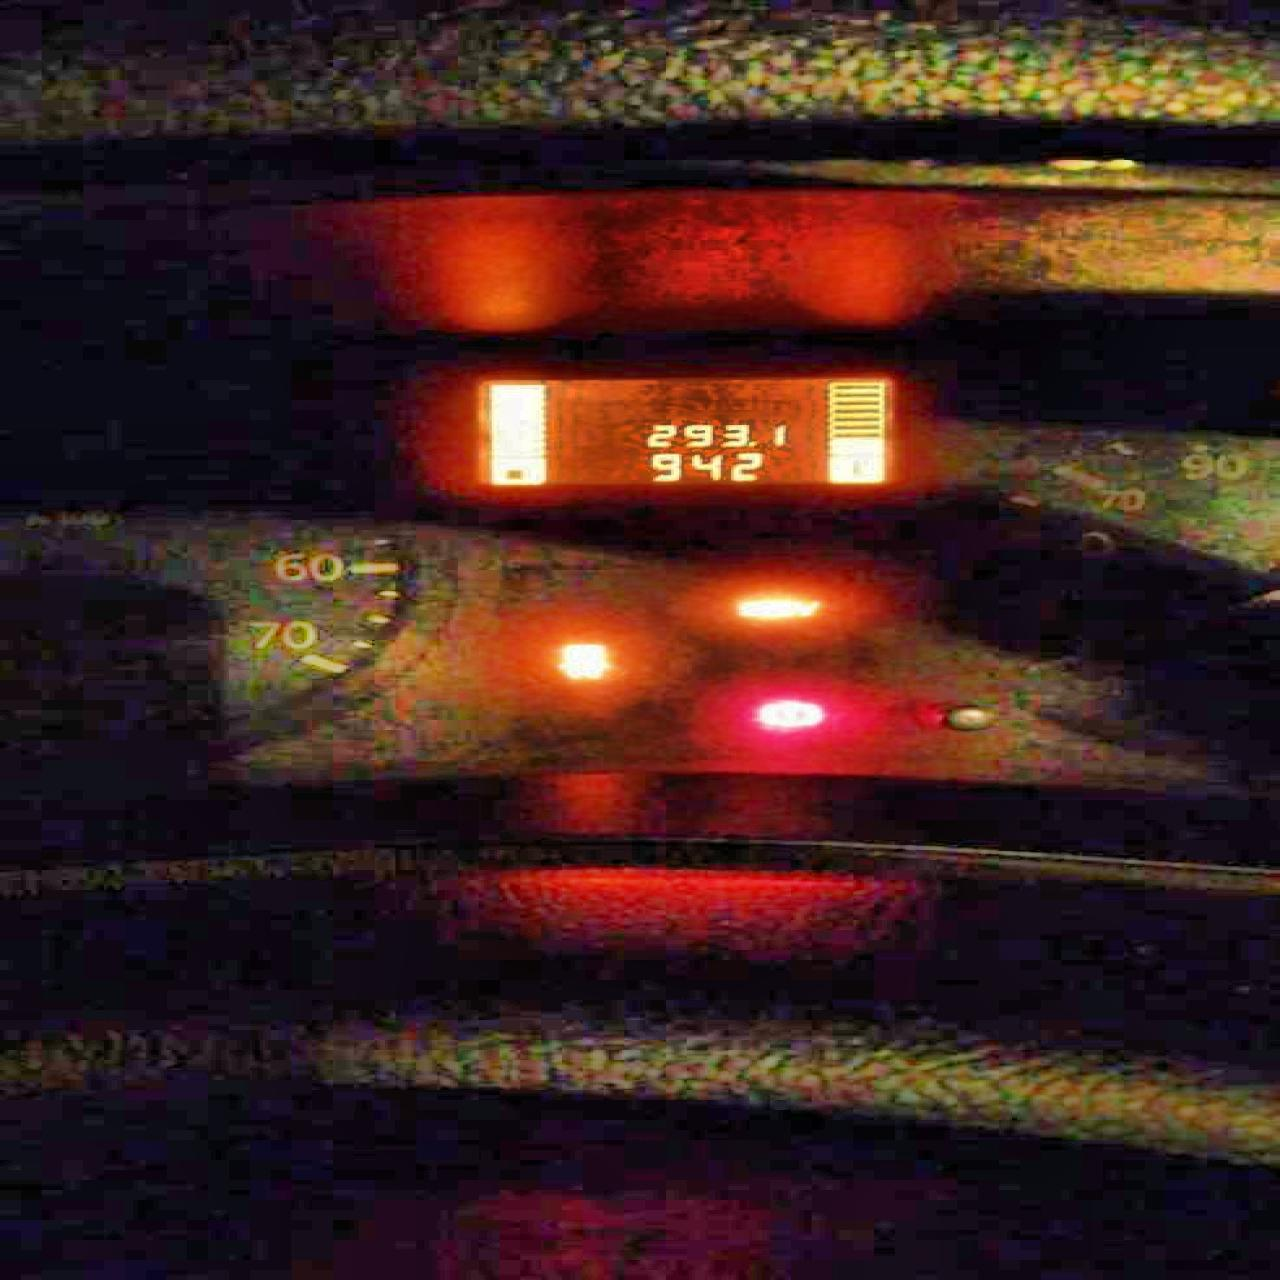-: (744, 438, 755, 447)
1: (768, 422, 789, 447)
2: (726, 451, 762, 481), (642, 422, 676, 448)
3: (719, 422, 747, 448)
4: (687, 451, 721, 481)
9: (645, 451, 682, 481), (679, 422, 713, 447)
odometer: (463, 373, 900, 490)
